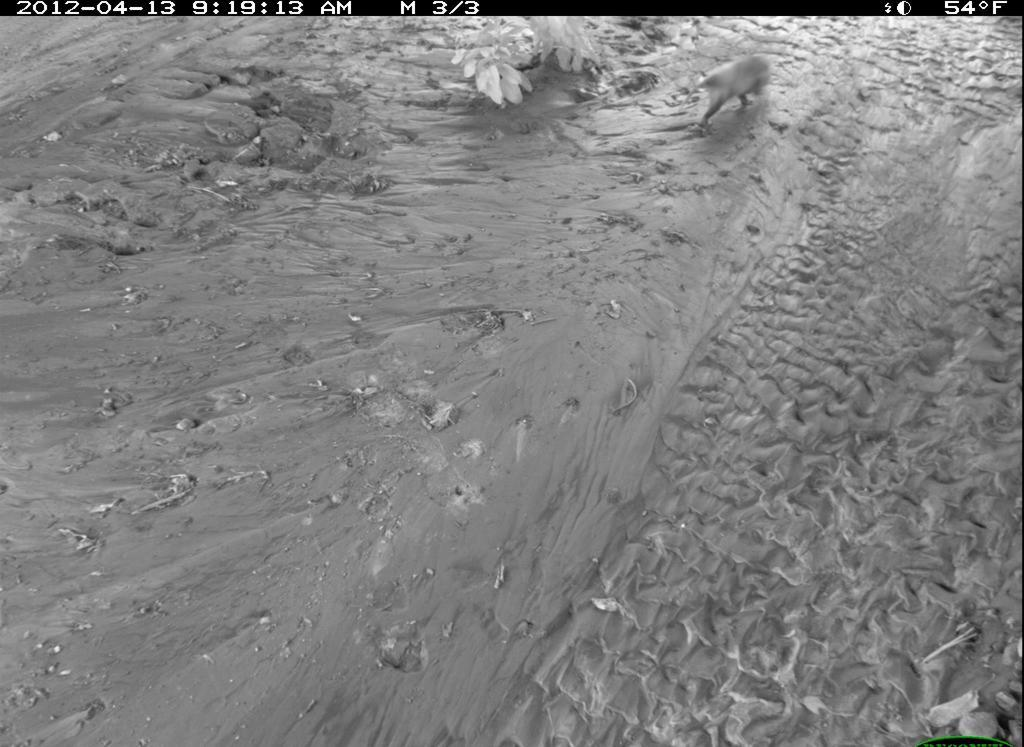opossum: (693, 49, 784, 141)
